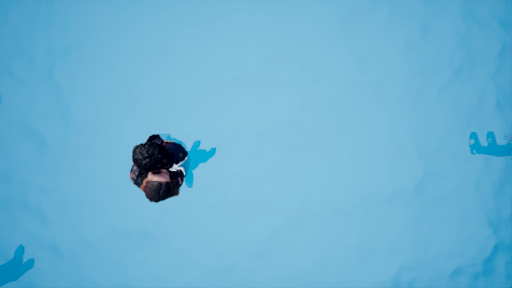person: (129, 134, 219, 201)
